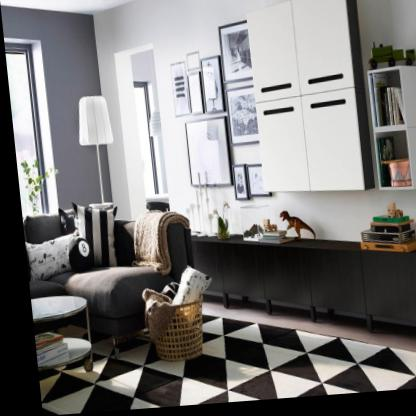Sofa: (17, 201, 195, 364)
